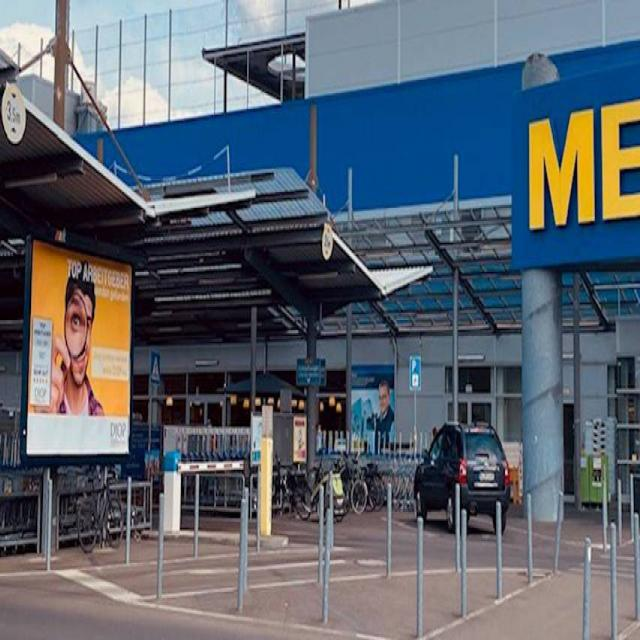Werbetafel frei: (20, 235, 138, 464)
